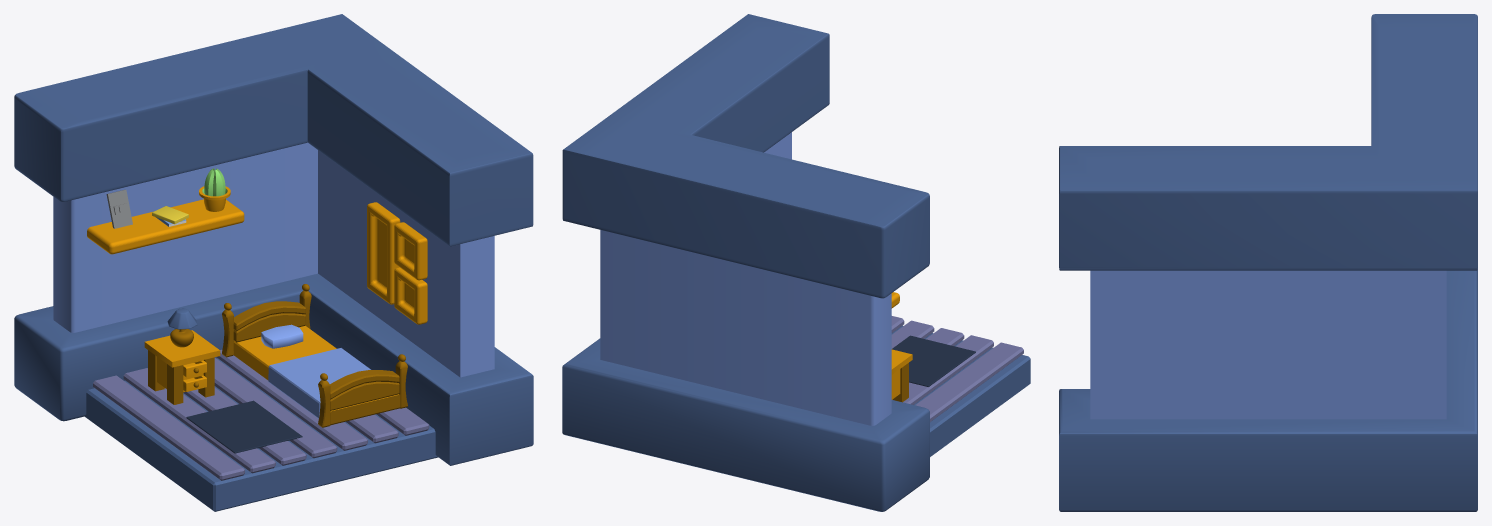
Rendered from Bedroom.fbx.
The picture shows the model from 3 angles, left to right: view 1: azimuth 30°, elevation 25°; view 2: azimuth 150°, elevation 25°; view 3: azimuth 270°, elevation 25°; orthographic projection. The views are drawn at different scales.
Visible parts, largest first — view 1: Cube.014, Plane.001, Plane, Plane.002, Cube.001, Cube.002, Plane.005, Plane.003, Cube.004, Plane.004, Cube.011, Cube.003 (+2 smaller); view 2: Cube.014, Plane.001, Plane, Plane.005, Cube.004; view 3: Cube.014.
Boxes of the visible parts, <box> form: Cube.014: <box>14,14,533,465</box>; Plane.001: <box>93,349,429,480</box>; Plane: <box>85,358,438,511</box>; Plane.002: <box>222,284,407,427</box>; Cube.001: <box>367,202,427,324</box>; Cube.002: <box>87,199,244,254</box>; Plane.005: <box>186,400,302,453</box>; Plane.003: <box>268,348,370,418</box>; Cube.004: <box>144,330,220,392</box>; Plane.004: <box>233,325,400,425</box>; Cube.011: <box>167,308,197,347</box>; Cube.003: <box>261,324,303,348</box>; Cube.014: <box>562,14,929,511</box>; Plane.001: <box>891,316,1023,421</box>; Plane: <box>891,325,1030,456</box>; Plane.005: <box>892,335,975,386</box>; Cube.004: <box>891,349,912,399</box>; Cube.014: <box>1059,14,1477,511</box>.
Size of the model in its own units: 235 by 202 by 235.
